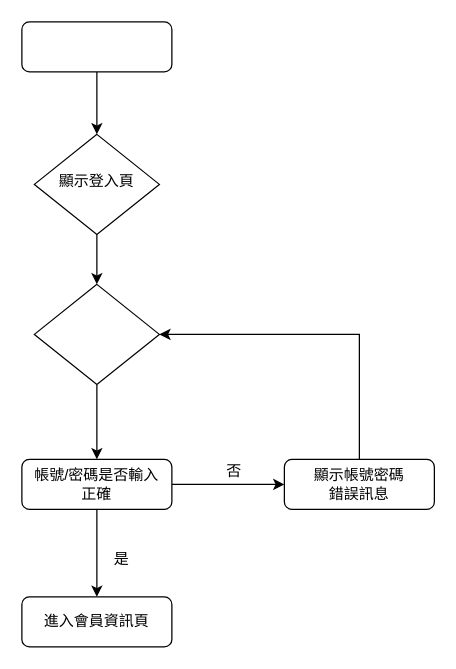
Image size: 456x669. Some labels were removed from this diagram. Each missing label, with the centre of its shape:
使用者輸入 帳號密碼: (96,333)
會員登入頁: (96,46)
